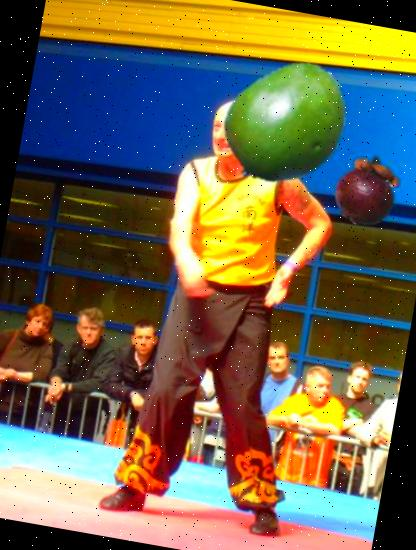Mango: (210, 48, 364, 202)
Mangostan: (327, 151, 408, 232)
